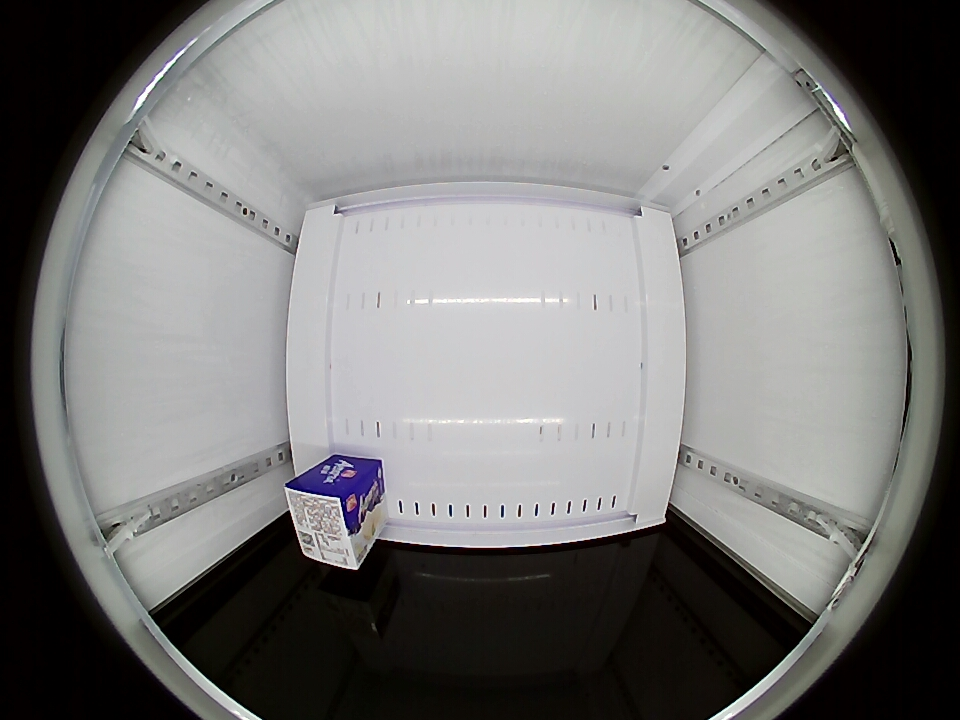meiniye: (284, 474, 371, 571)
